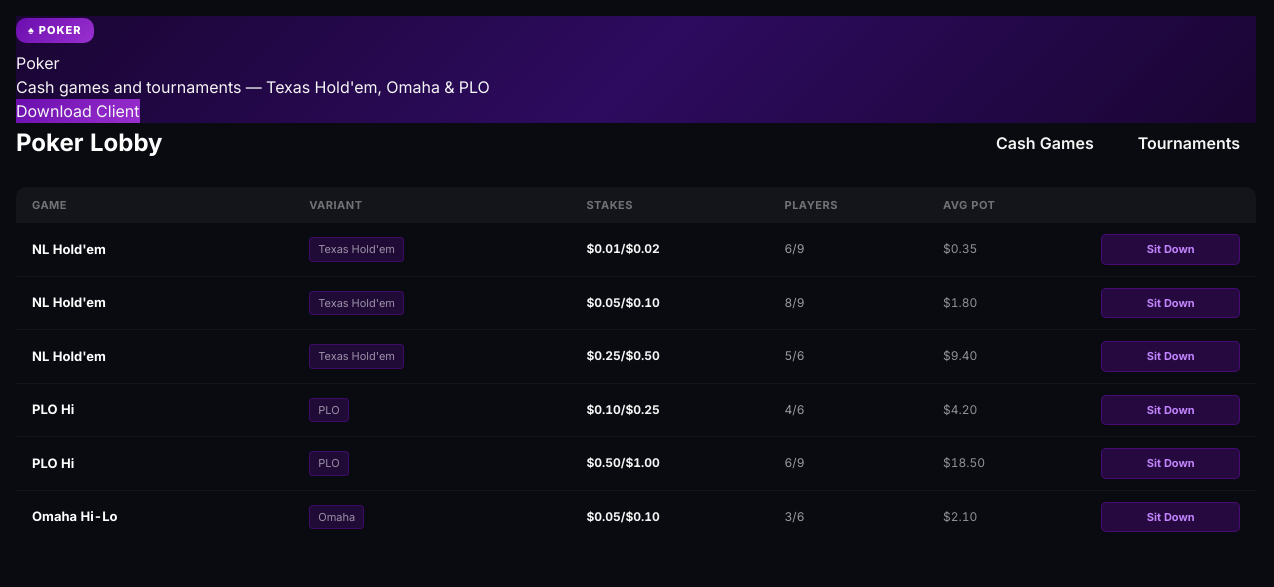
Poker Component › Tournaments Tab › switches to tournaments tab
The image size is (1274, 587).
Click the button "Tournaments" at (1189, 142), box [1122,122,1256,162]
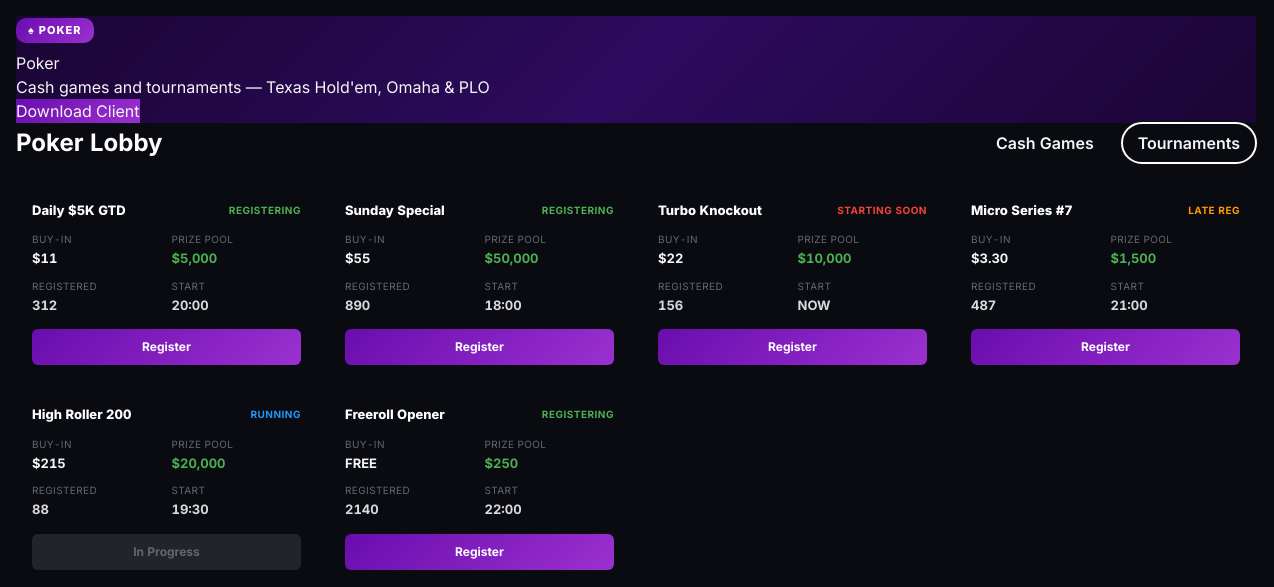
Expected: the text "Daily $5K GTD" is shown, [32,200,126,220]
Expected: the text "Sunday Special" is shown, [345,200,445,220]
